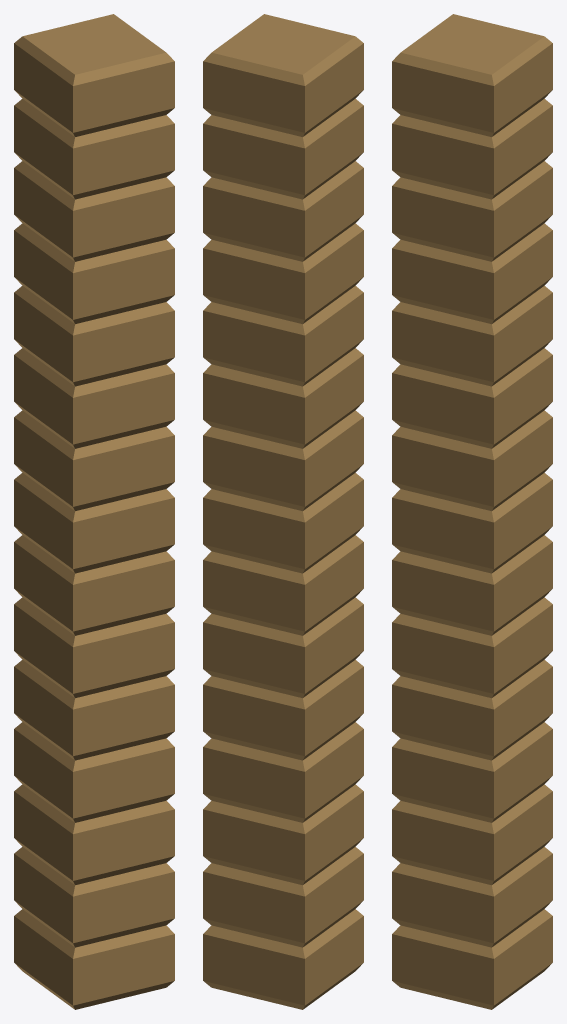
The model's file is CornerBricksA.fbx.
3 views of the same model, side by side, from view 1: azimuth 30°, elevation 25°; view 2: azimuth 150°, elevation 25°; view 3: azimuth 330°, elevation 25° (orthographic).
Visible parts, largest first — view 1: CornerBricksA; view 2: CornerBricksA; view 3: CornerBricksA.
Boxes of the visible parts, x1=… form: CornerBricksA: x1=14, y1=14, x2=174, y2=1009; CornerBricksA: x1=203, y1=14, x2=363, y2=1009; CornerBricksA: x1=392, y1=14, x2=552, y2=1009.
Size of the model in its own units: 34.21 by 300 by 34.21.
